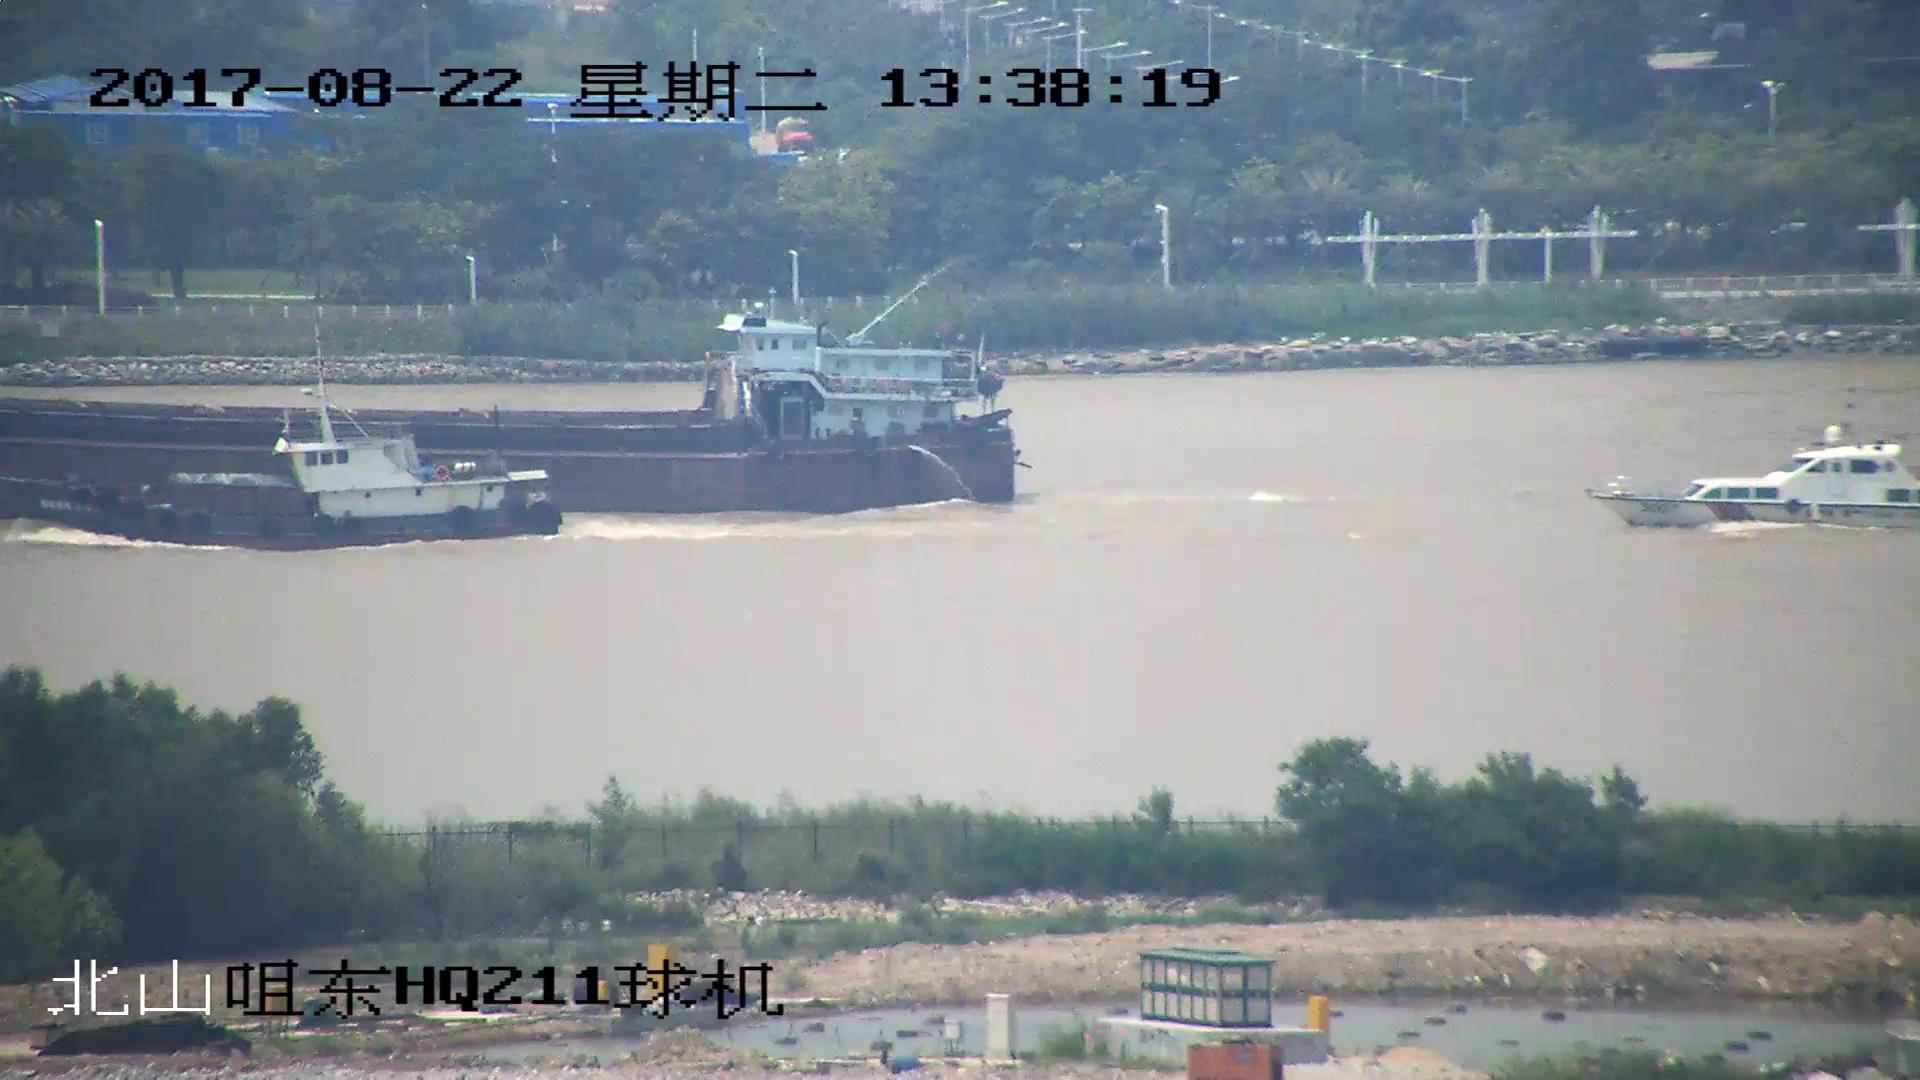bulk cargo carrier: (1, 291, 1029, 514)
passenger ship: (36, 335, 565, 546), (1587, 414, 1920, 528)
